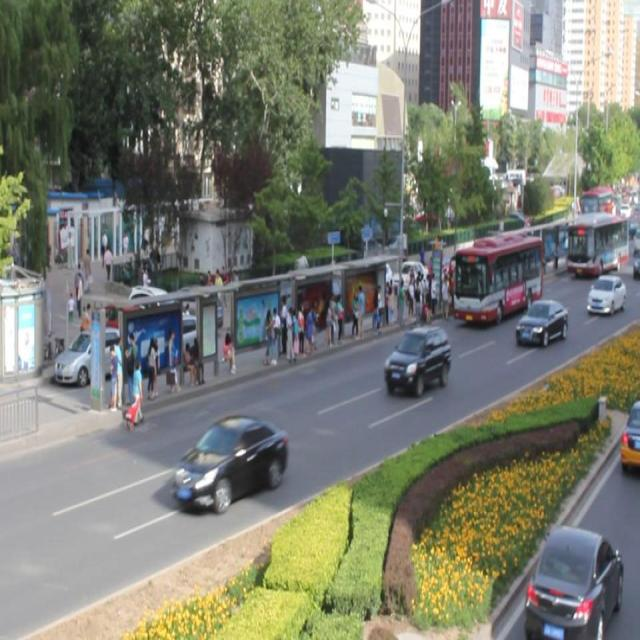car: (171, 414, 287, 510), (384, 325, 449, 396), (515, 298, 565, 348), (585, 273, 624, 315)
van: (447, 232, 538, 326)
